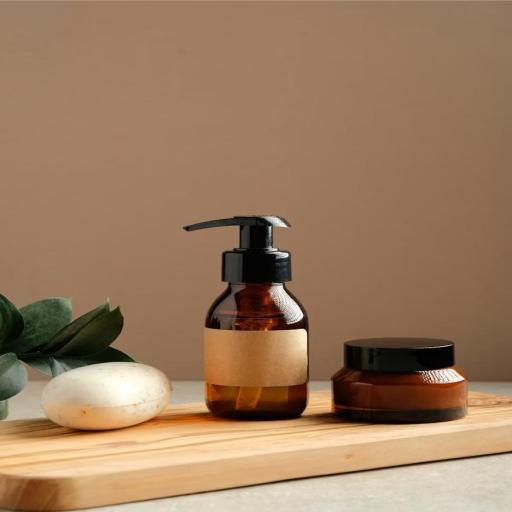bottle: (174, 198, 322, 426)
